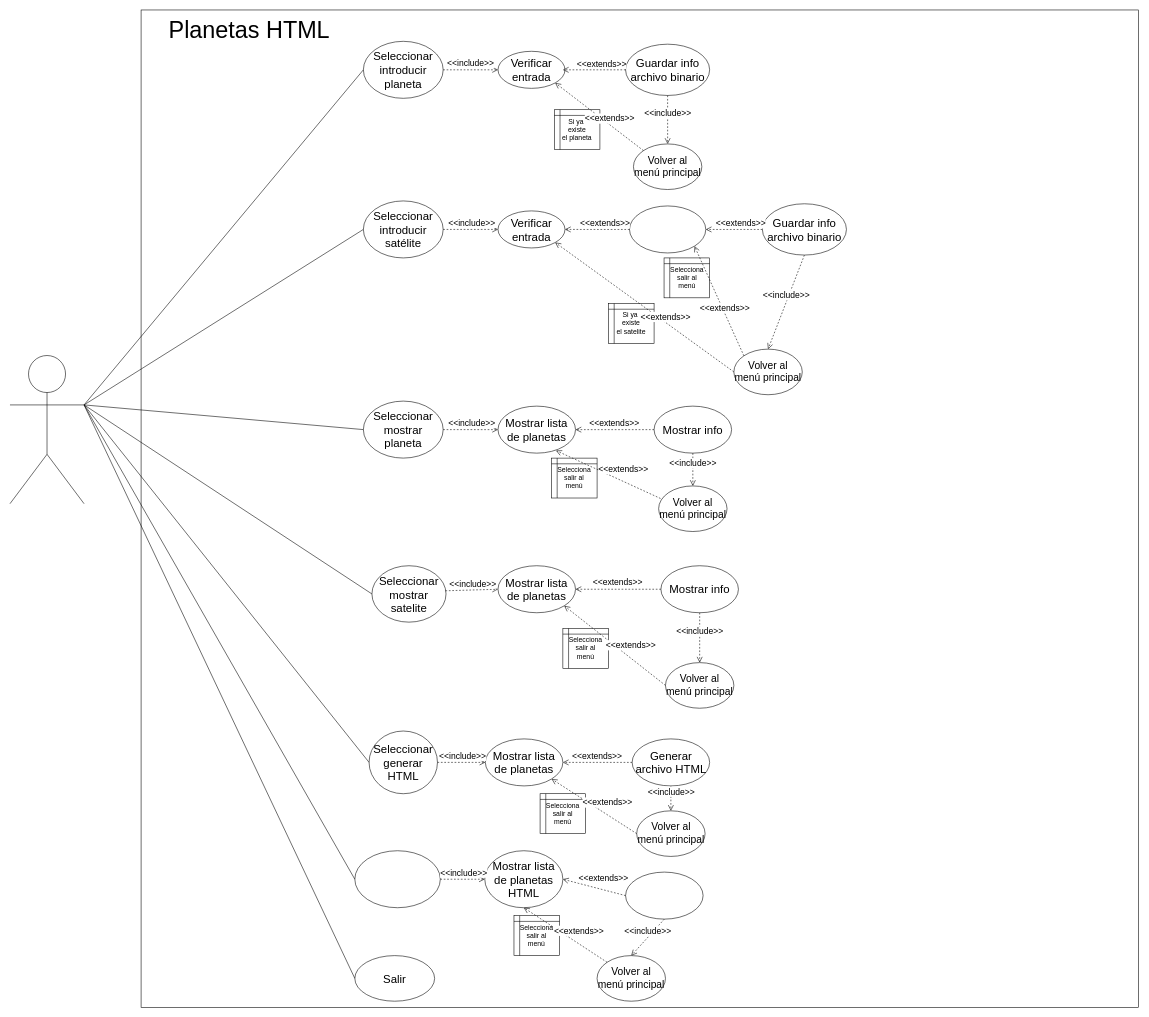
Some shapes in this 1149 by 1017 pixel diagram are drawn without their labels. Each missing label, with the centre of its shape:
"Ejecutar HTML" belongs at (x=664, y=895).
"Mostrar selección planetas" belongs at (x=667, y=229).
"Seleccionar ejecutar web planeta" belongs at (x=397, y=879).
"User" belongs at (x=46, y=429).
